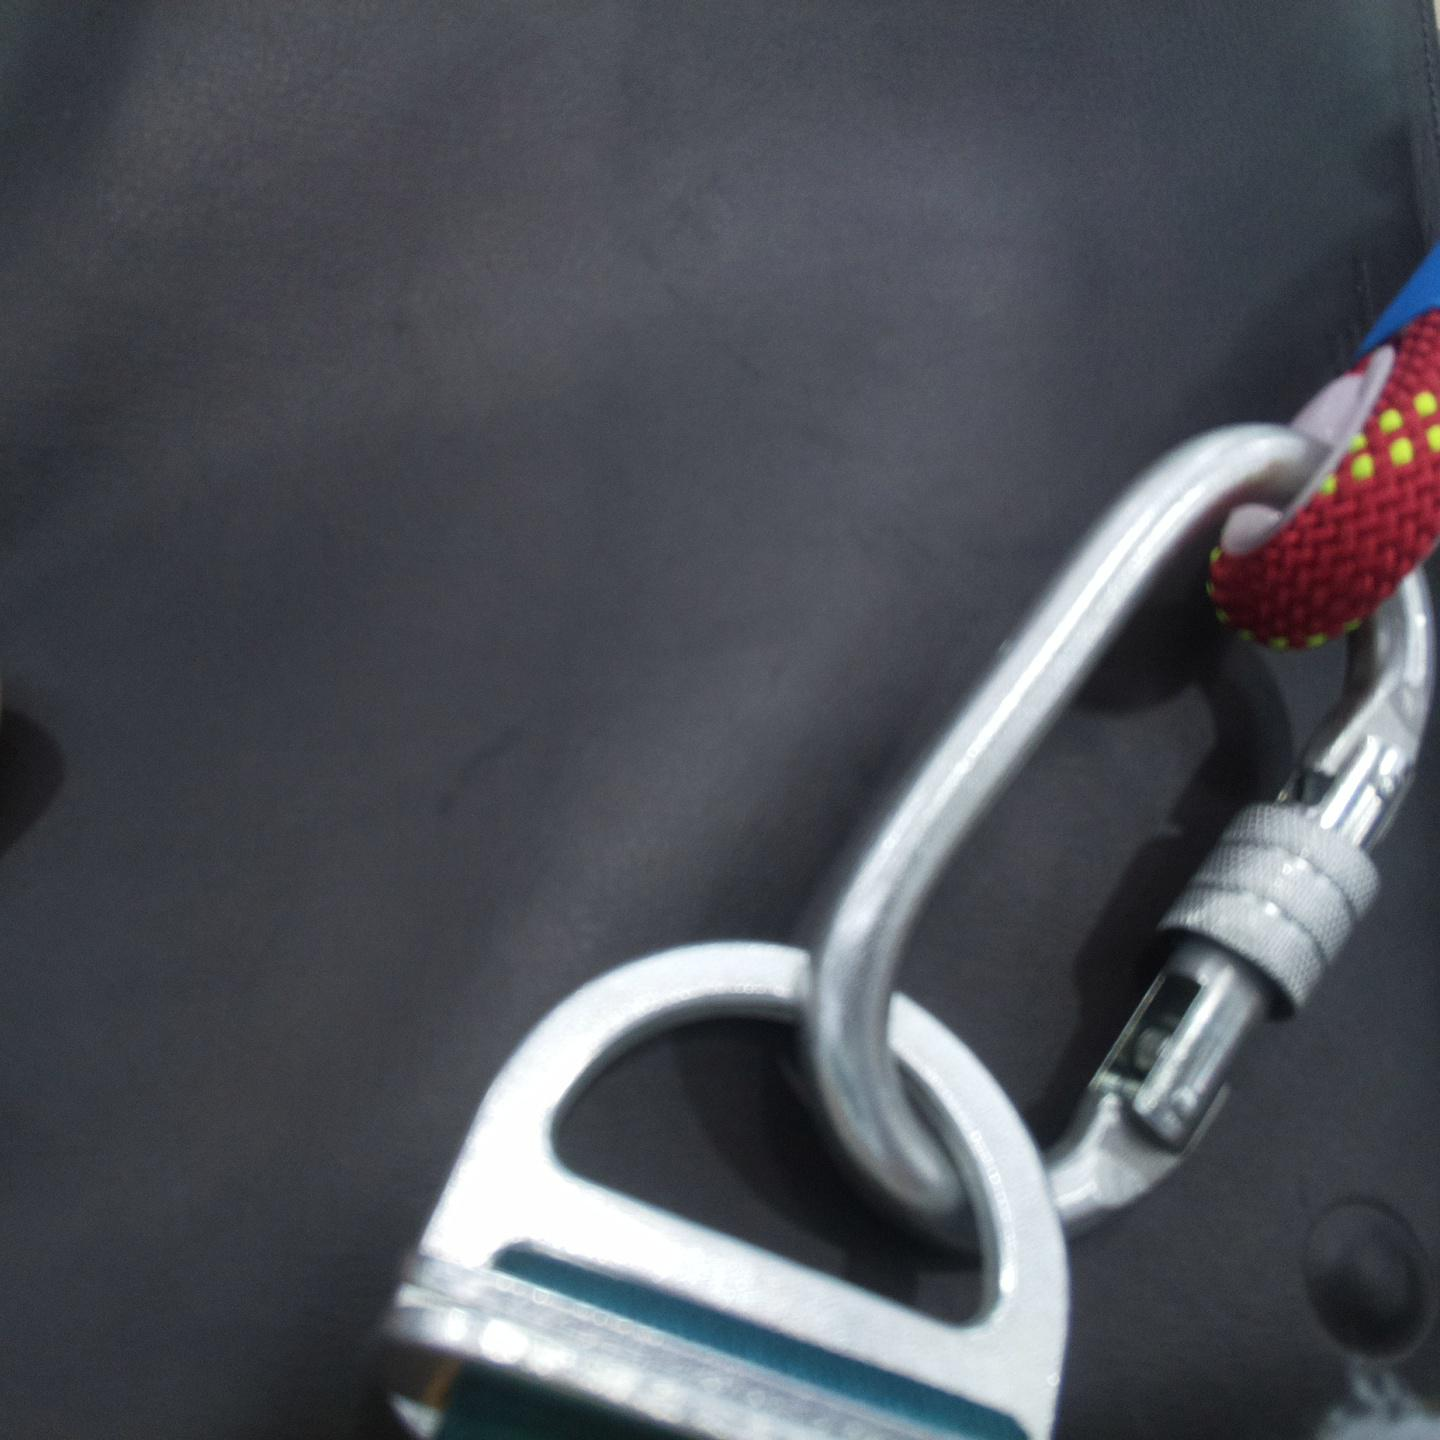SUCCESS: (396, 738, 1176, 1358)
